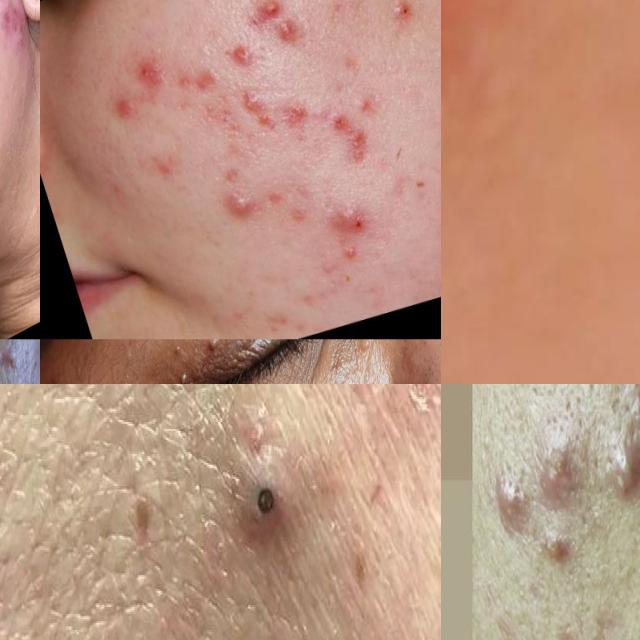acne_scars: (325, 101, 379, 168), (200, 101, 242, 151), (254, 301, 301, 339)
comedone: (230, 442, 299, 552), (414, 339, 436, 372)
crystanlline: (601, 442, 640, 510), (540, 449, 574, 498), (540, 526, 578, 566), (496, 482, 518, 532)
milium: (168, 352, 194, 384)
papule: (262, 5, 314, 54), (332, 196, 380, 244), (108, 88, 144, 136), (247, 0, 295, 26), (134, 52, 163, 92), (232, 47, 260, 79)
pustule: (207, 175, 281, 235)
syringoma: (336, 339, 384, 377)
